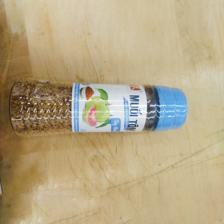TayNinh_blue: (6, 78, 190, 133)
